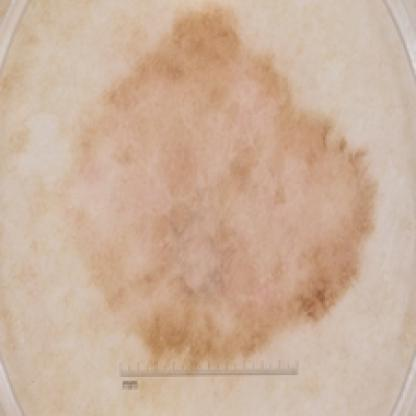malignant: (78, 24, 373, 347)
